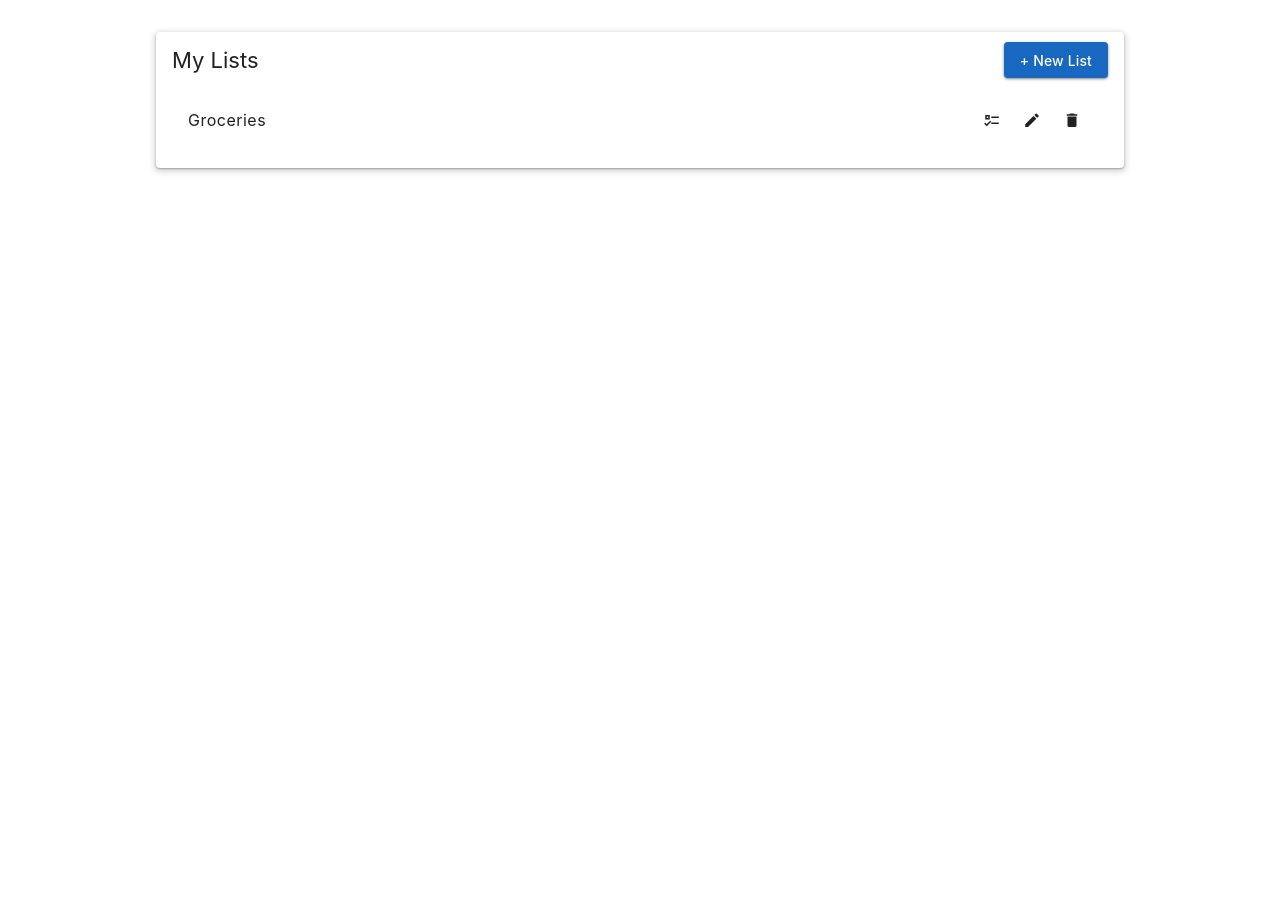
Test: Feature 3 — List items dialog › US-3.1 — Add tasks to a list › Add item is only available inside the items dialog
Expected: the text "+ Add Item" is not shown
Step 1. Click the button named "View items for Groceries" → (992, 120), box [972,100,1012,140]
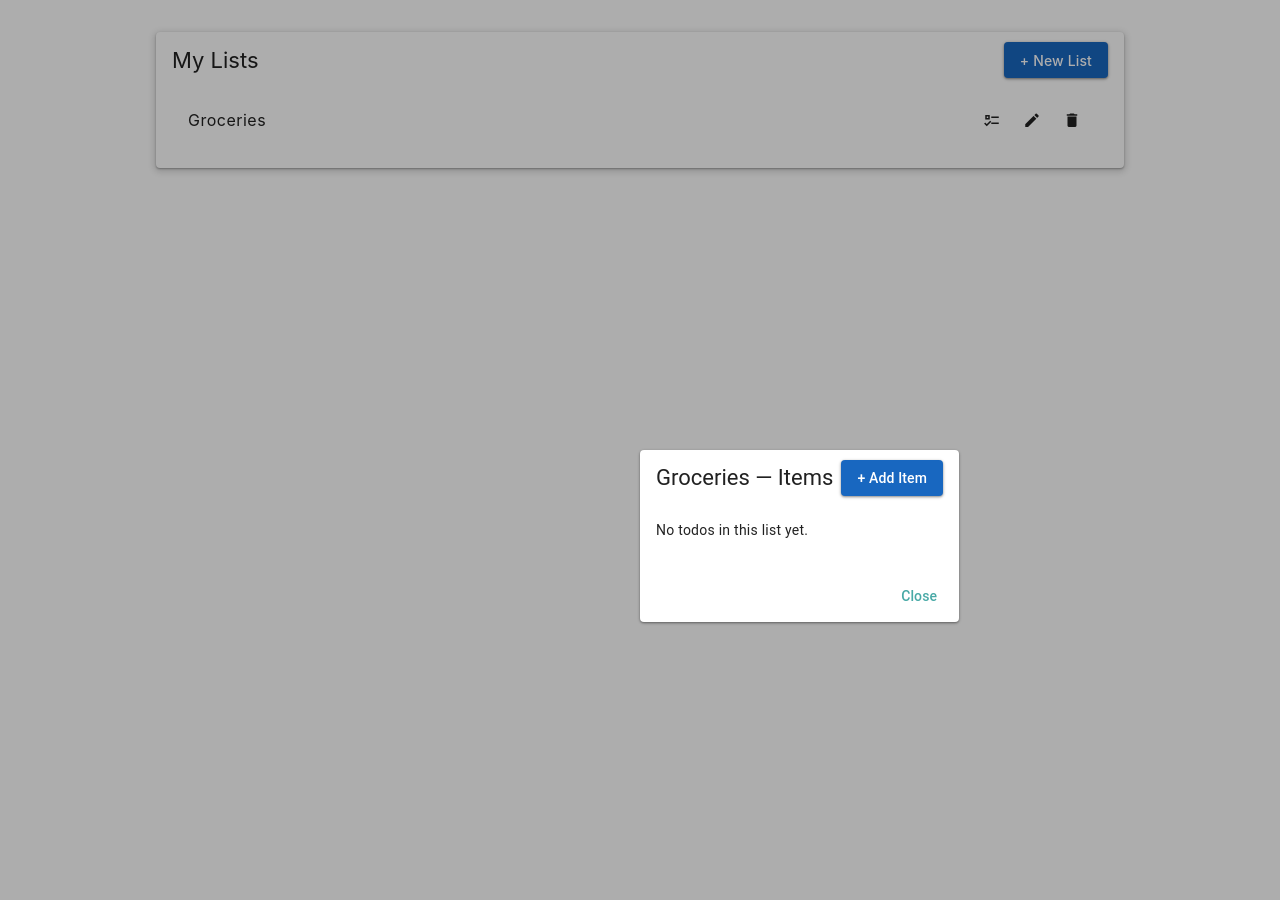
Result: the text "+ Add Item" is shown at [857,470,927,486]
